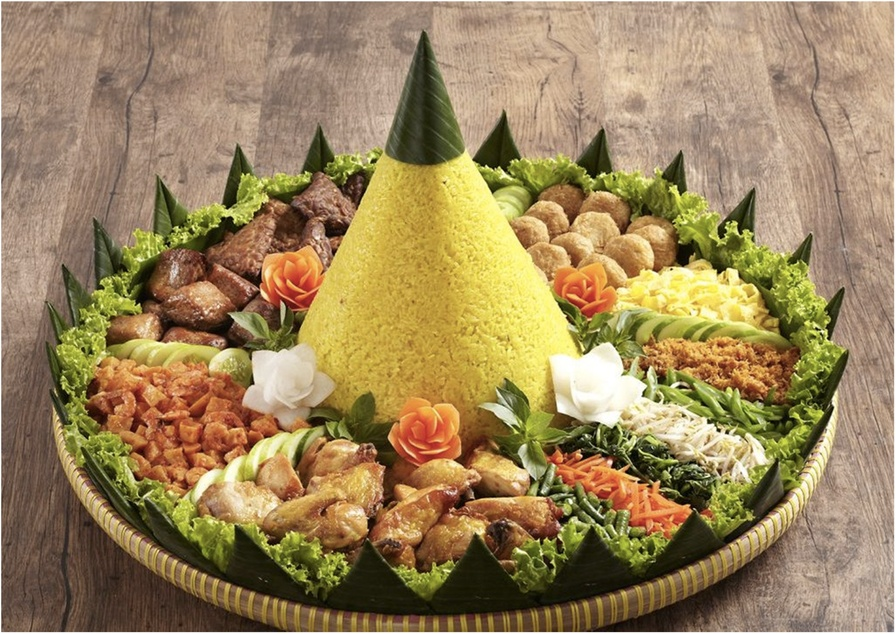nasi_tumpeng: (84, 29, 794, 570)
